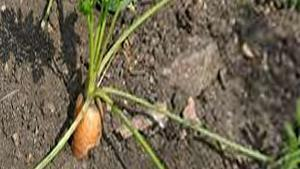carrot: (69, 88, 105, 159)
